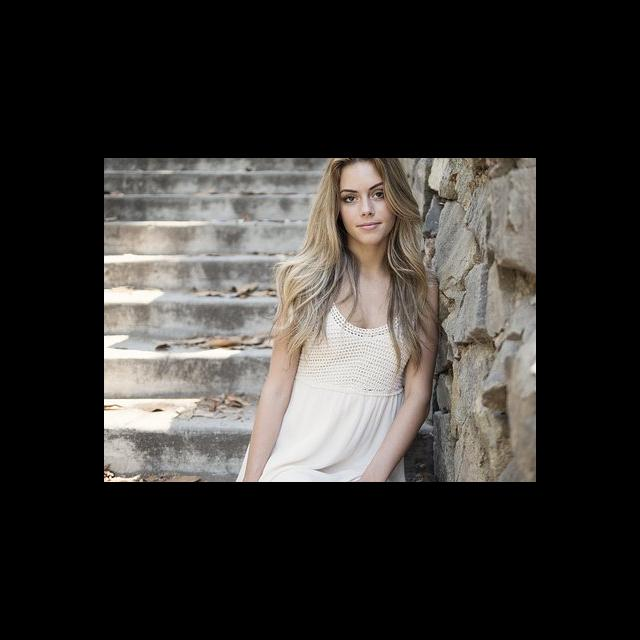female: (274, 158, 466, 294)
